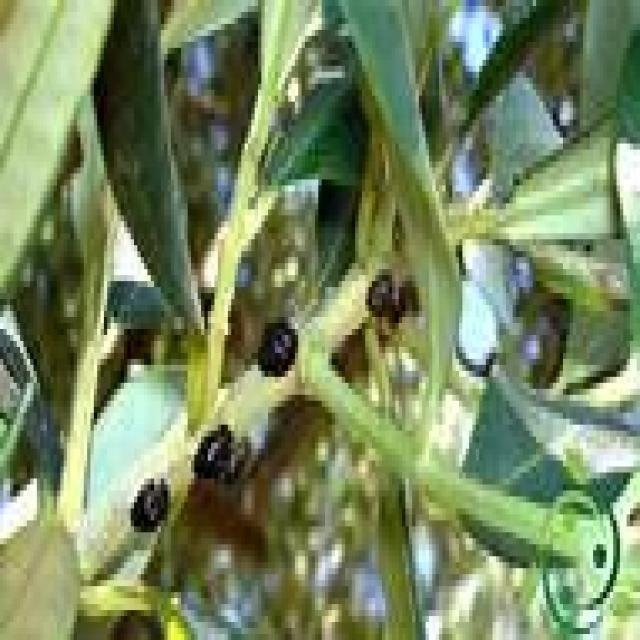BlackScale: (191, 424, 248, 484), (258, 317, 295, 371), (130, 478, 168, 526)
